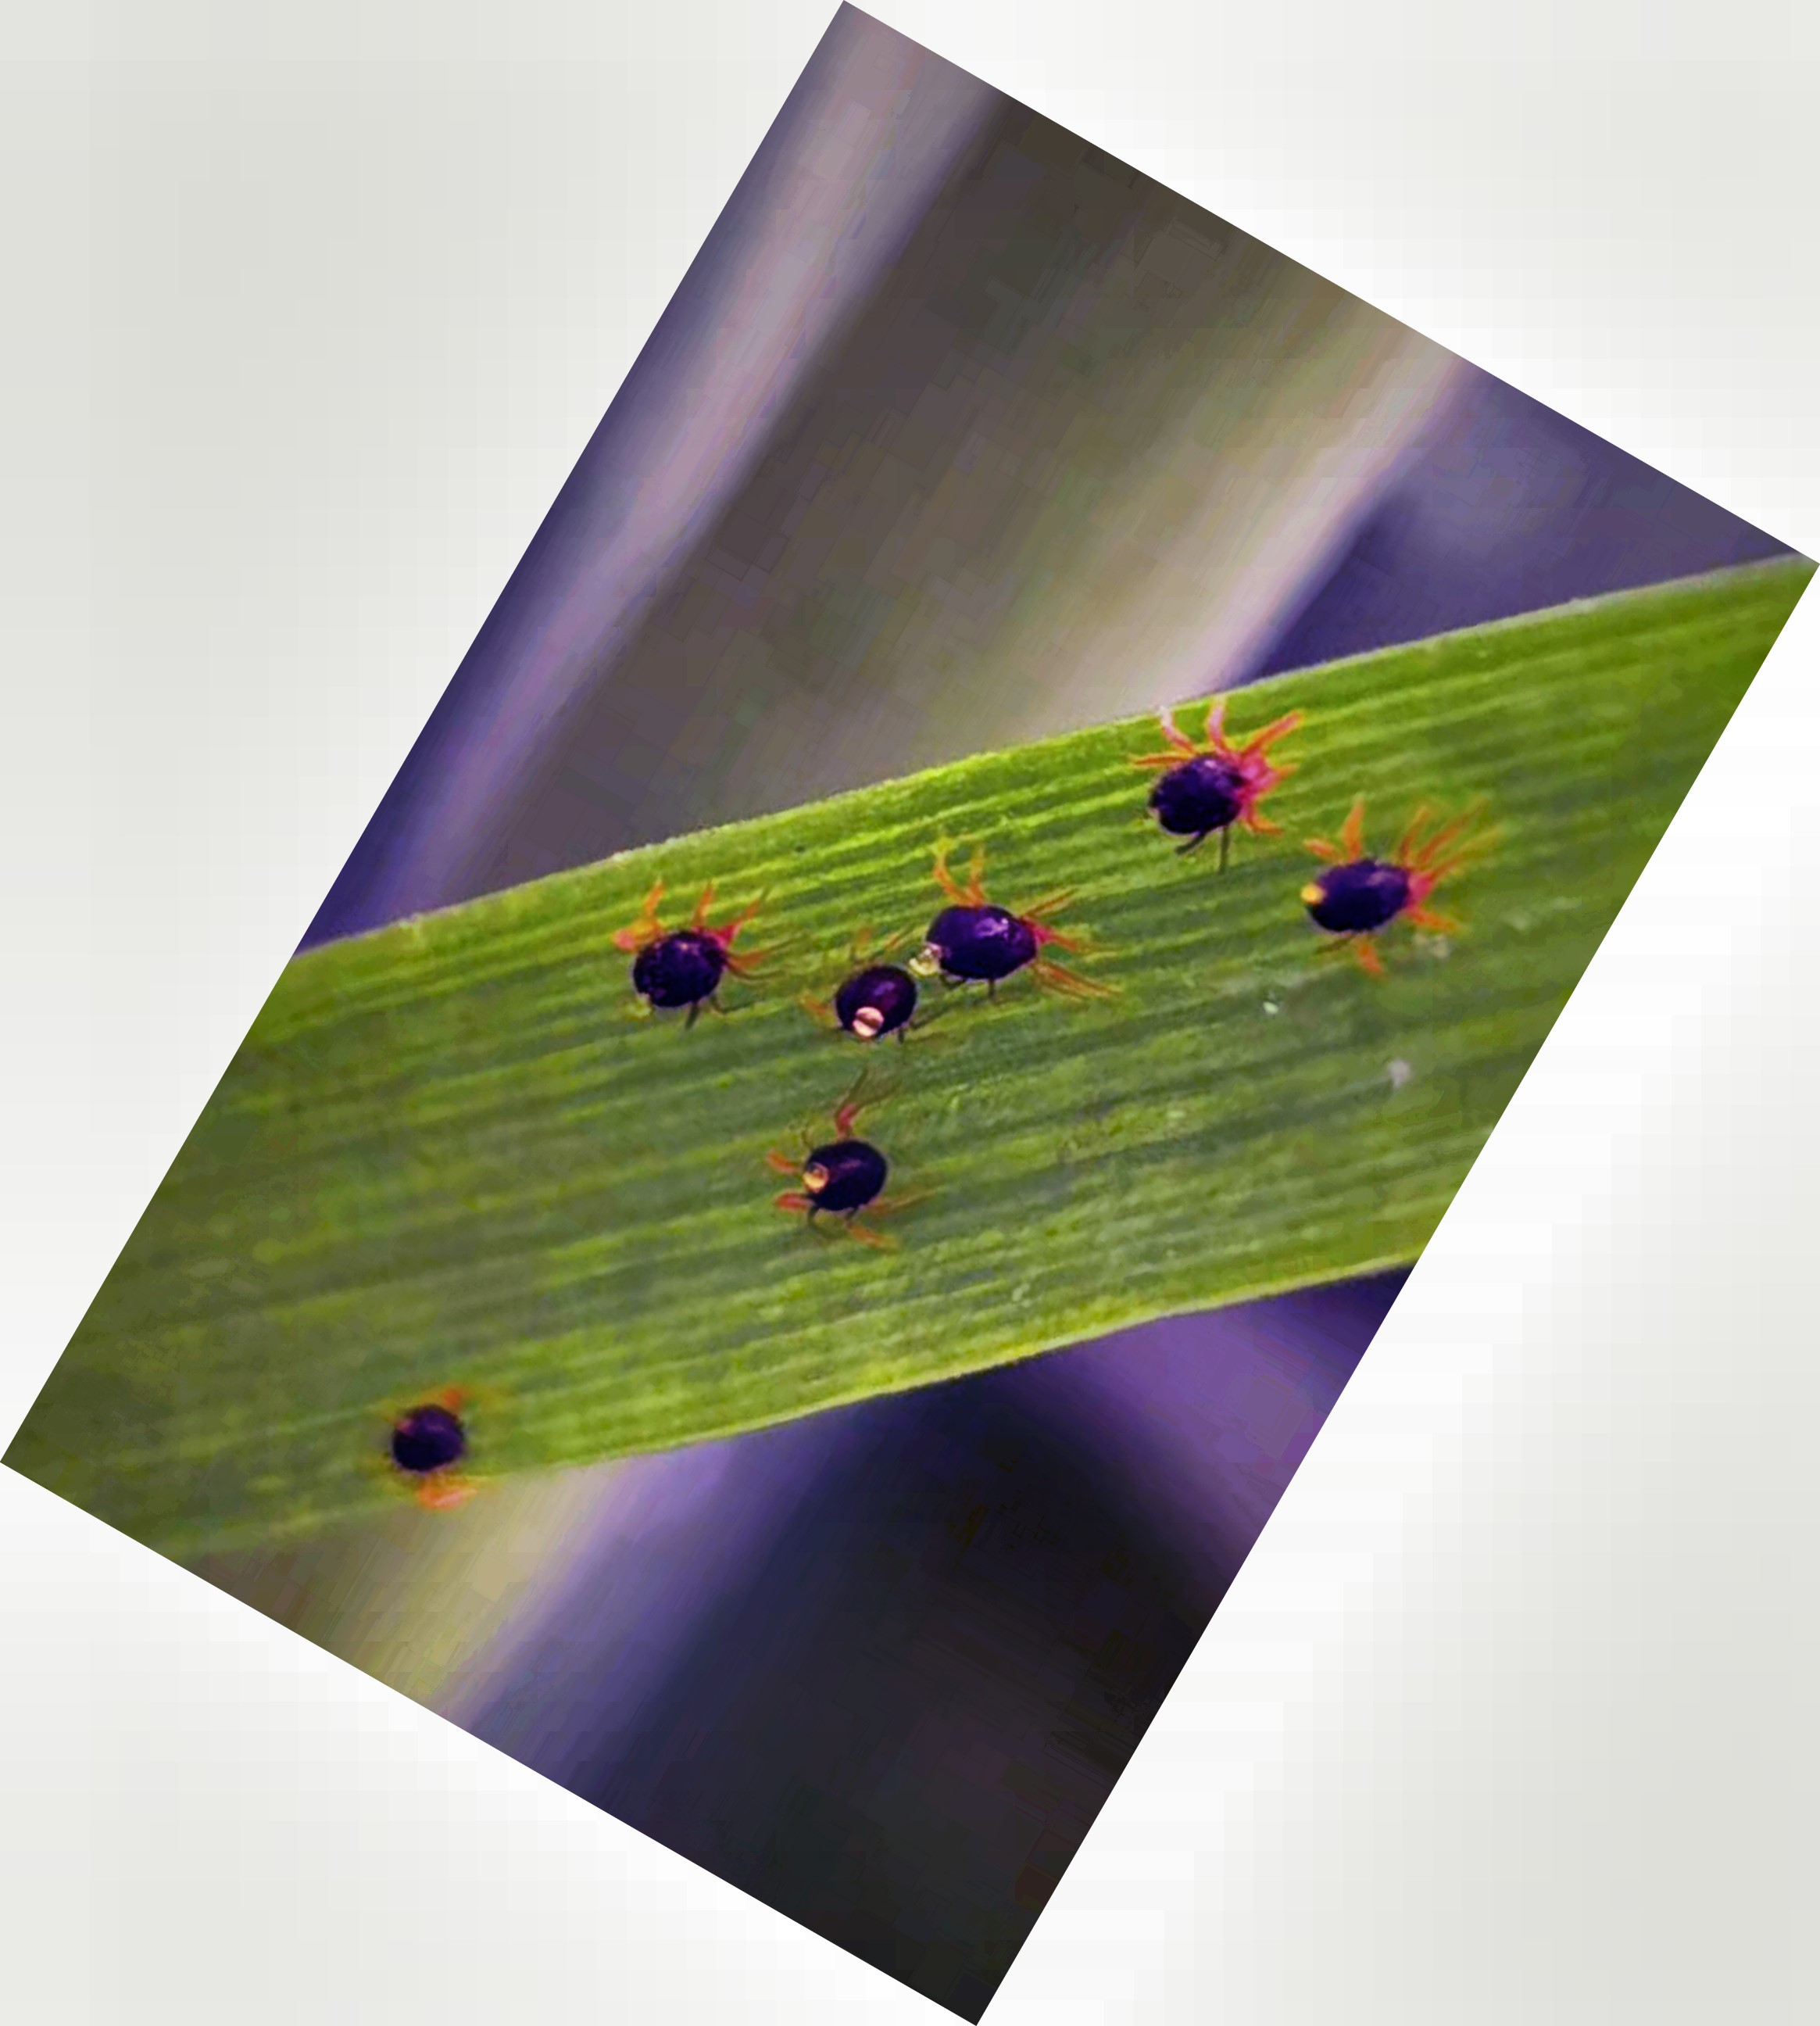Wheat Red Spider: (1098, 694, 1506, 1000)
